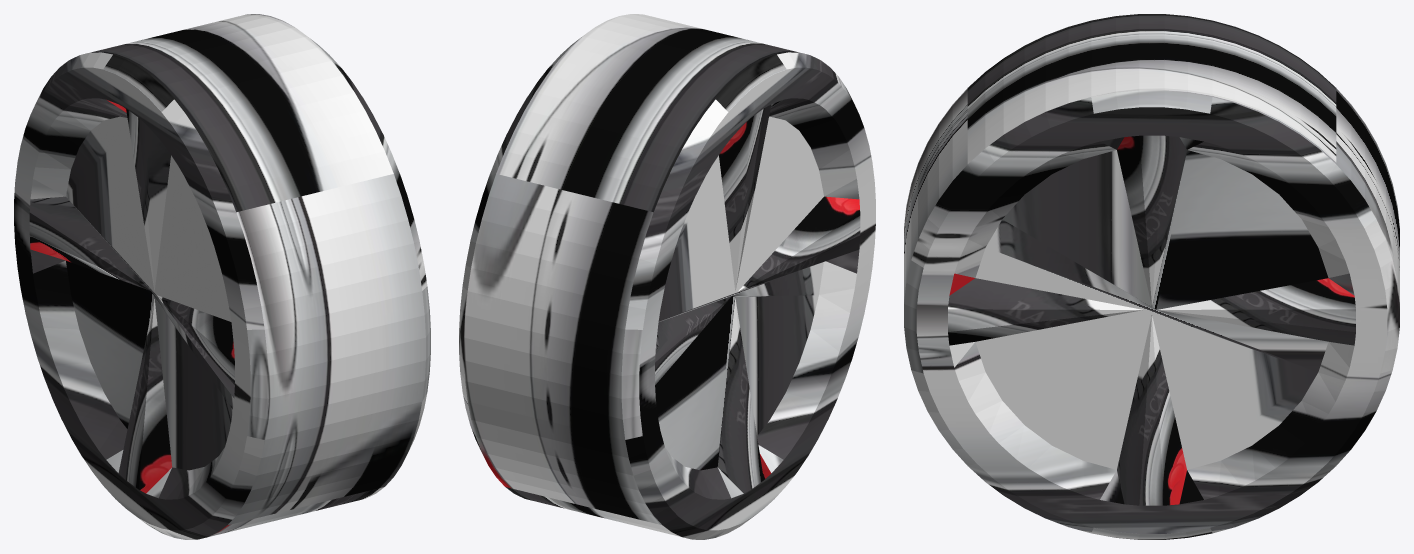
Rendered from Llanta.obj.
3 renders of one model, left to right at view 1: azimuth 30°, elevation 25°; view 2: azimuth 150°, elevation 25°; view 3: azimuth 270°, elevation 25°, orthographic.
Visible parts, largest first — view 1: Cylinder; view 2: Cylinder; view 3: Cylinder.
Boxes of the visible parts, <box> form: Cylinder: <box>14,14,430,539</box>; Cylinder: <box>459,14,875,539</box>; Cylinder: <box>904,14,1399,539</box>.
Bounding box in the file's own units: 0.4638 × 1.11 × 1.11.
